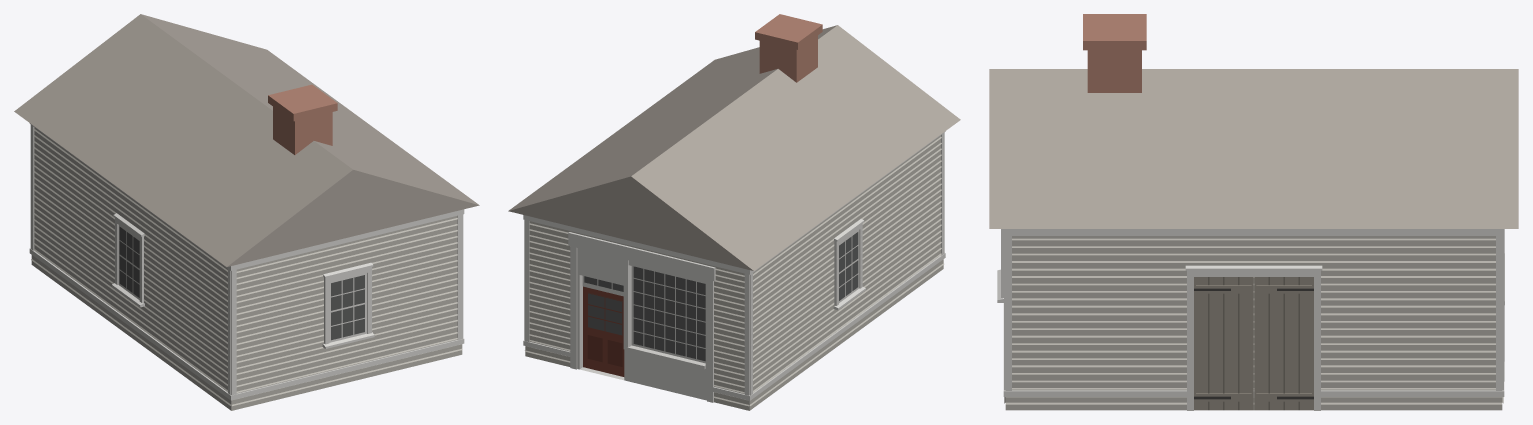
The model's file is recon_1835_core_c1_015__inferred_1835.glb.
The picture shows the model from 3 angles, left to right: view 1: azimuth 30°, elevation 25°; view 2: azimuth 150°, elevation 25°; view 3: azimuth 270°, elevation 25°; orthographic projection. The views are drawn at different scales.
Visible parts, largest first — view 1: recon_1835_core_c1_015__inferred_1835; view 2: recon_1835_core_c1_015__inferred_1835; view 3: recon_1835_core_c1_015__inferred_1835.
Part boxes in pixels (box(x1,y1,x2,y2)): recon_1835_core_c1_015__inferred_1835: box(14, 14, 479, 410); recon_1835_core_c1_015__inferred_1835: box(508, 14, 960, 410); recon_1835_core_c1_015__inferred_1835: box(989, 14, 1518, 410).
Size of the model in its own units: 5.61 by 5.33 by 8.17.
